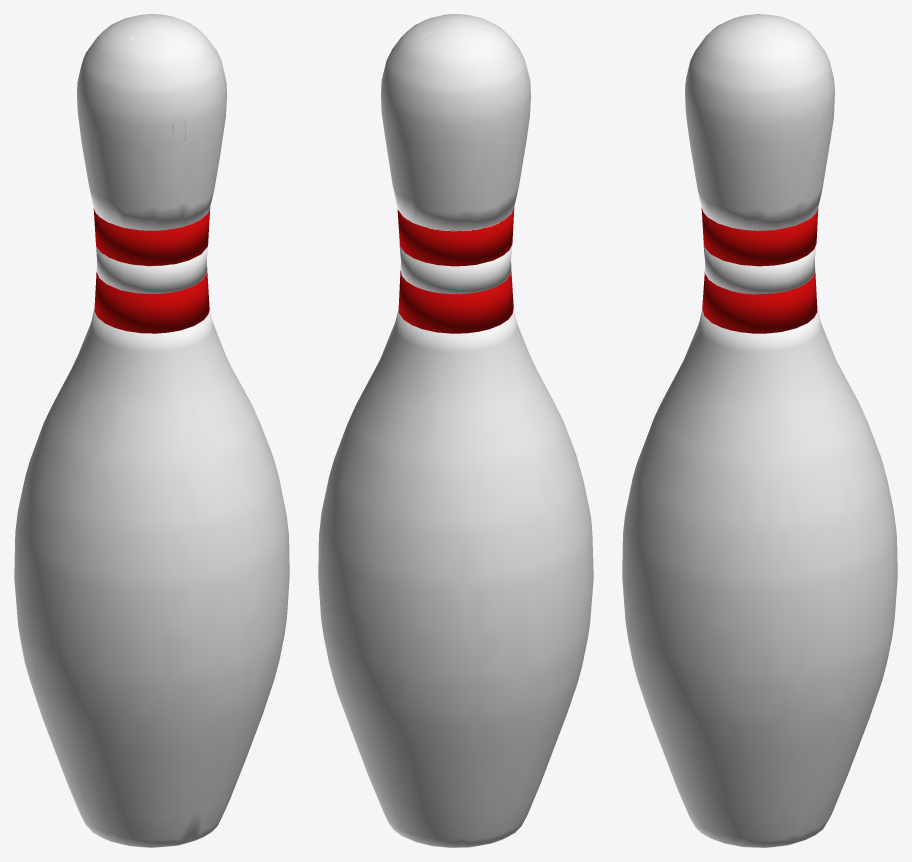
File: pin.fbx
3 views of the same model, side by side, from view 1: azimuth 30°, elevation 25°; view 2: azimuth 150°, elevation 25°; view 3: azimuth 270°, elevation 25° (orthographic).
Visible parts, largest first — view 1: pin_New Material 3; view 2: pin_New Material 3; view 3: pin_New Material 3.
Boxes of the visible parts, bbox=[...] form: pin_New Material 3: bbox=[14, 14, 289, 847]; pin_New Material 3: bbox=[318, 14, 593, 847]; pin_New Material 3: bbox=[622, 14, 897, 847].
Size of the model in its own units: 0.6498 by 2.08 by 0.6498.
